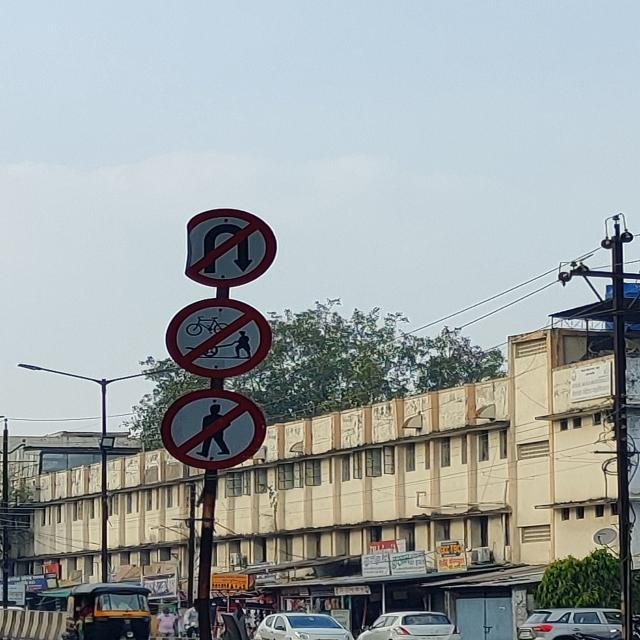cycle_prohibited: (161, 295, 275, 379)
